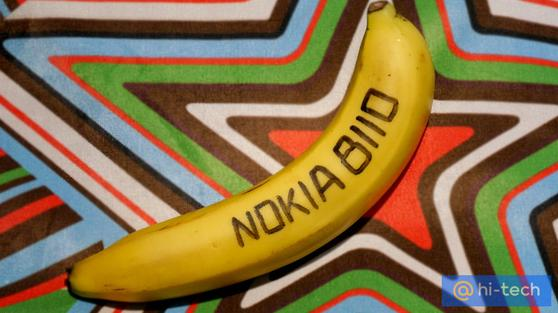banana: (69, 5, 450, 313)
